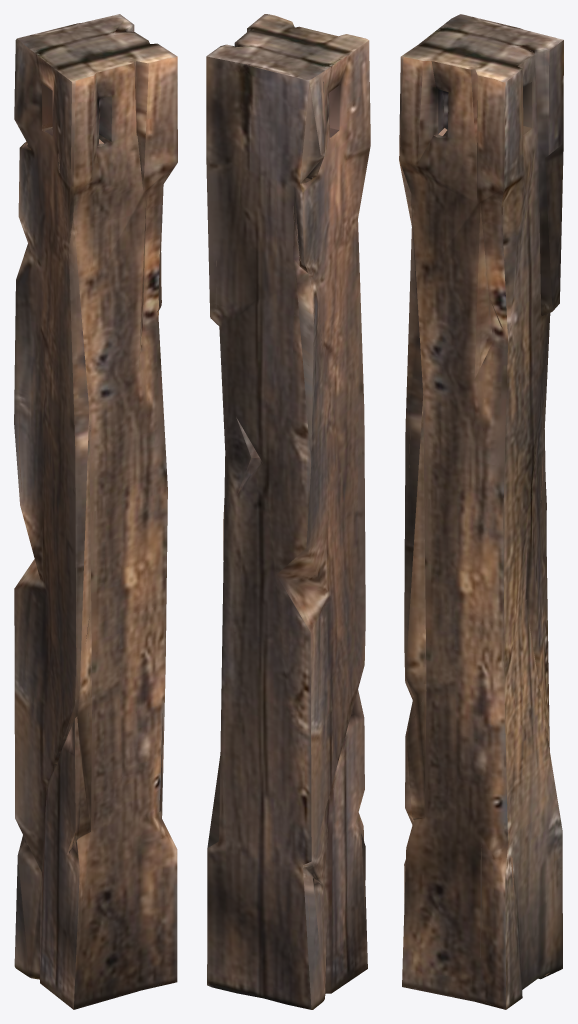
The picture shows the model from 3 angles, left to right: view 1: azimuth 30°, elevation 25°; view 2: azimuth 150°, elevation 25°; view 3: azimuth 330°, elevation 25°; orthographic projection.
Parts seen in each view (by area): view 1: geometry_0; view 2: geometry_0; view 3: geometry_0.
Boxes of the visible parts, x1,y1,x2,y2 form: geometry_0: (14, 14, 177, 1009); geometry_0: (206, 14, 370, 1009); geometry_0: (399, 14, 563, 1009).
Size of the model in its own units: 0.1112 by 0.8991 by 0.1064.
1 material, 1 textured.
